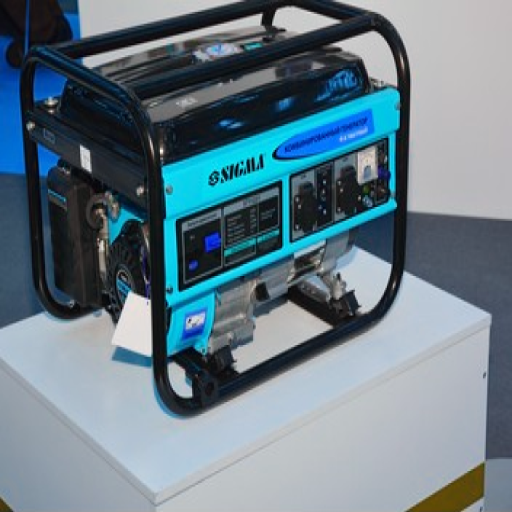portable_generator: (19, 1, 411, 419)
